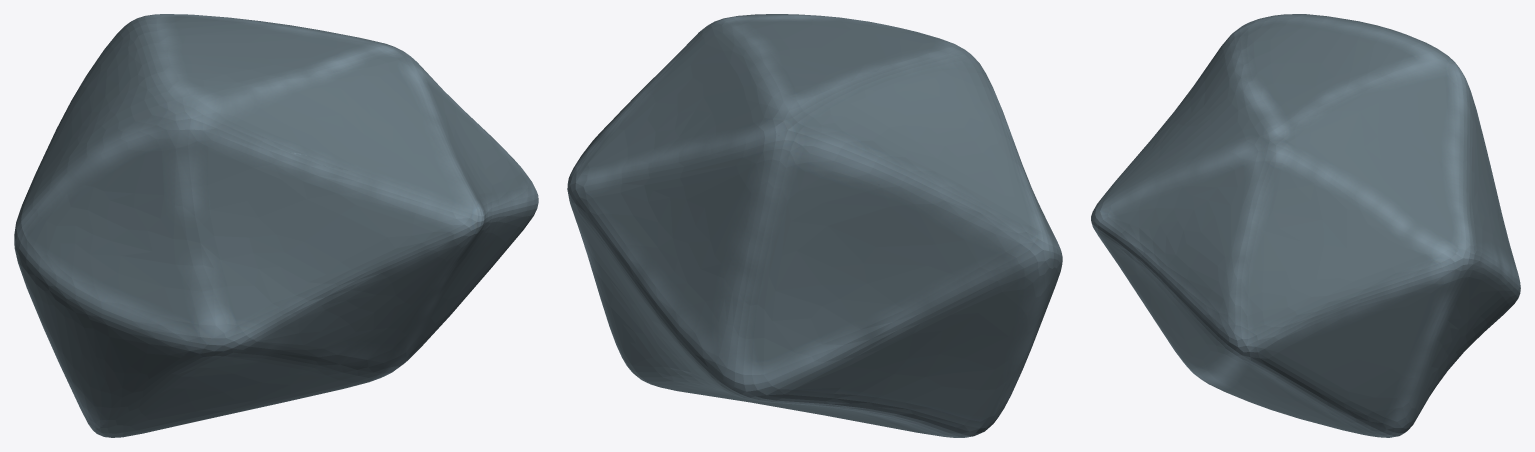
The model's file is MineableRock_size3.fbx.
3 renders of one model, left to right at view 1: azimuth 30°, elevation 25°; view 2: azimuth 150°, elevation 25°; view 3: azimuth 270°, elevation 25°, orthographic. The views are drawn at different scales.
Parts seen in each view (by area): view 1: MineableRock_size3; view 2: MineableRock_size3; view 3: MineableRock_size3.
Boxes of the visible parts, x1,y1,x2,y2 form: MineableRock_size3: (14,14,538,437); MineableRock_size3: (567,14,1062,437); MineableRock_size3: (1091,14,1520,437).
Bounding box in the file's own units: 209 × 250 × 181.
Materials: 1 (1 with a texture image).
